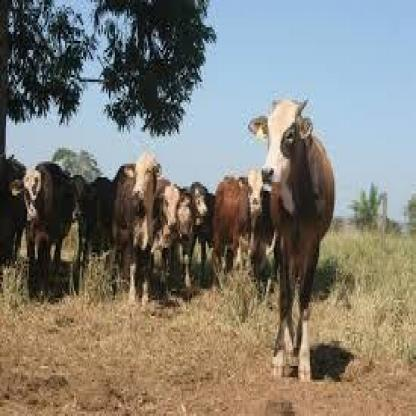cow: (247, 95, 337, 382), (11, 159, 77, 298), (110, 150, 161, 305), (212, 167, 265, 274), (178, 180, 210, 296), (156, 178, 184, 294)
